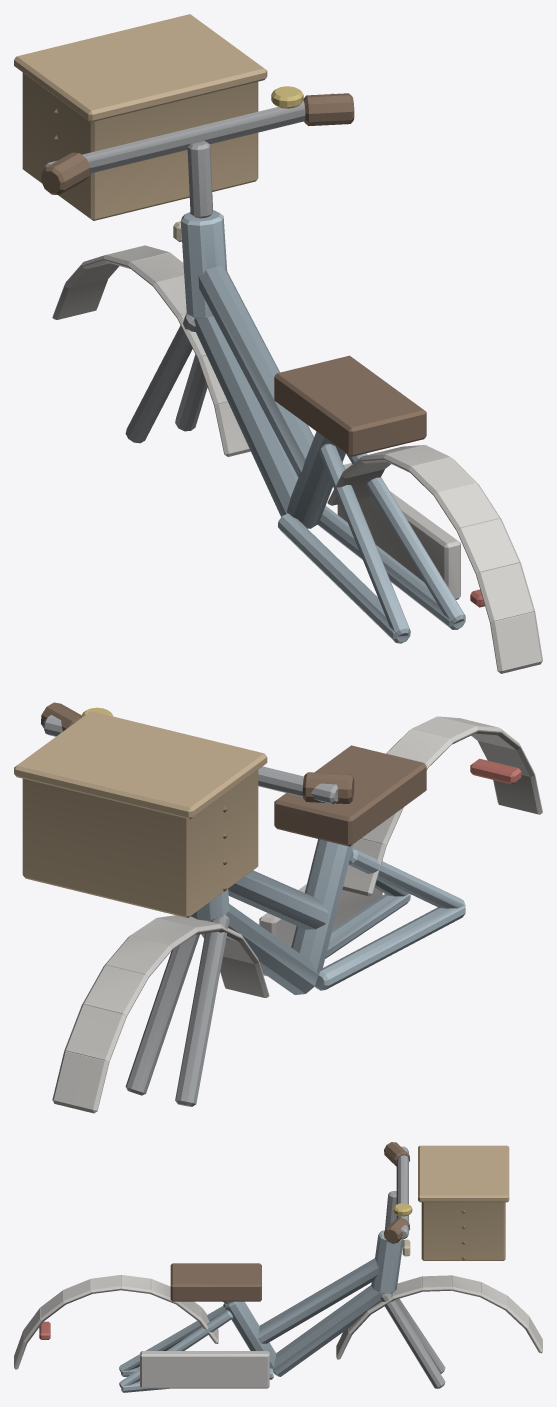
Rendered from bike_frame__sky.glb.
3 renders of one model, top to bottom at view 1: azimuth 30°, elevation 25°; view 2: azimuth 150°, elevation 25°; view 3: azimuth 270°, elevation 25°, orthographic. The views are drawn at different scales.
Size of the model in its own units: 0.5544 by 0.6206 by 1.39.
